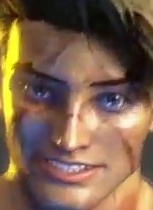kevin: (8, 23, 150, 209)
